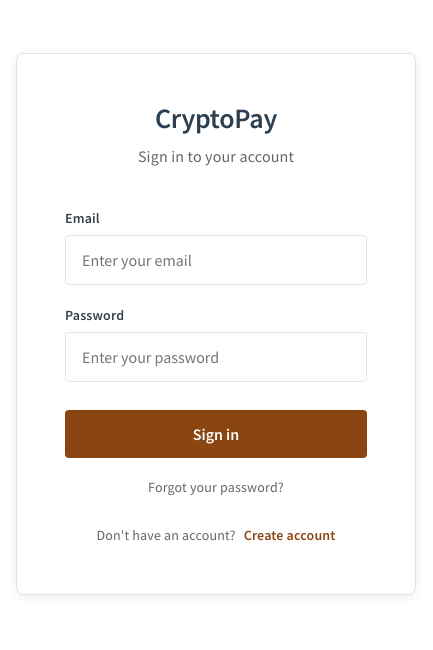
Test case: Login – form interaction › shows an error message when signIn returns an error
This screenshot has width=433, height=650.
Type "wrong@example.com" into the field. click: (216, 260)
box: [65, 235, 367, 285]
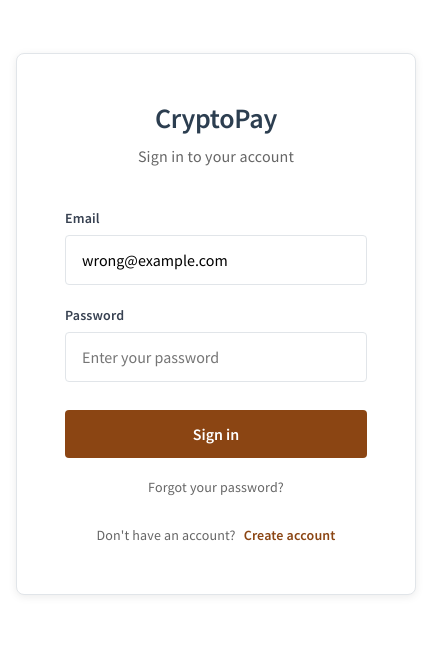
Type "wrongpass" into the password field with placeholder "Enter your password". click: (216, 357)
box: [65, 332, 367, 382]
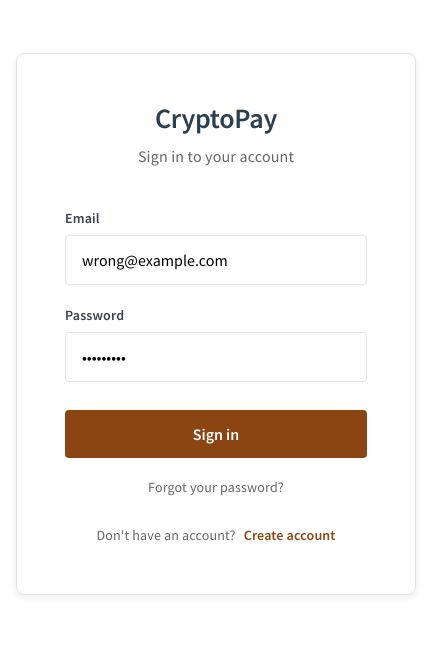
Click the button "Sign in". click: click(216, 434)
box: [65, 410, 367, 458]
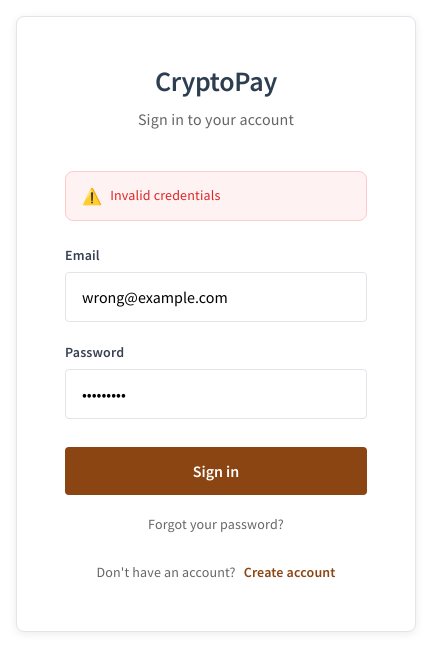
Expected: the text "⚠️ Invalid credentials" is shown, [65, 171, 367, 221]
